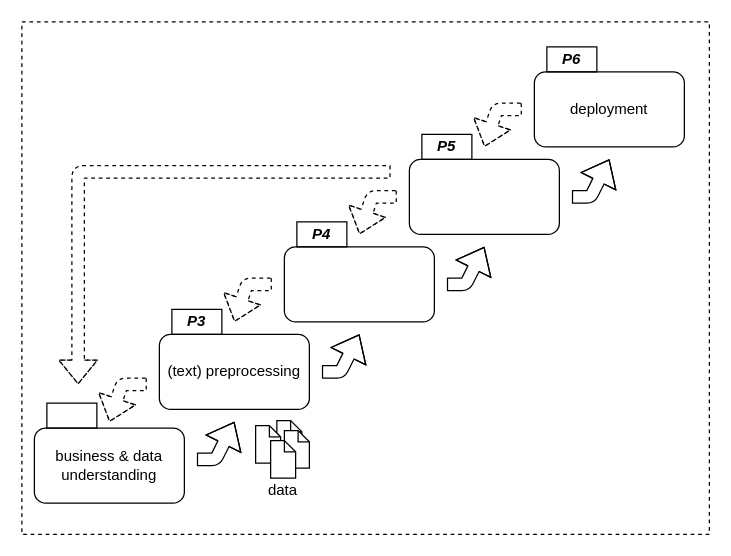
This 731x556 diagram has some shape labels left out. Here are the shapes that lost their labels. From the top down, the centre of each, then its label:
At point 483,196: "evaluation".
At point 358,284: "modelling / pattern mining".
At point 71,415: "P1&2".
